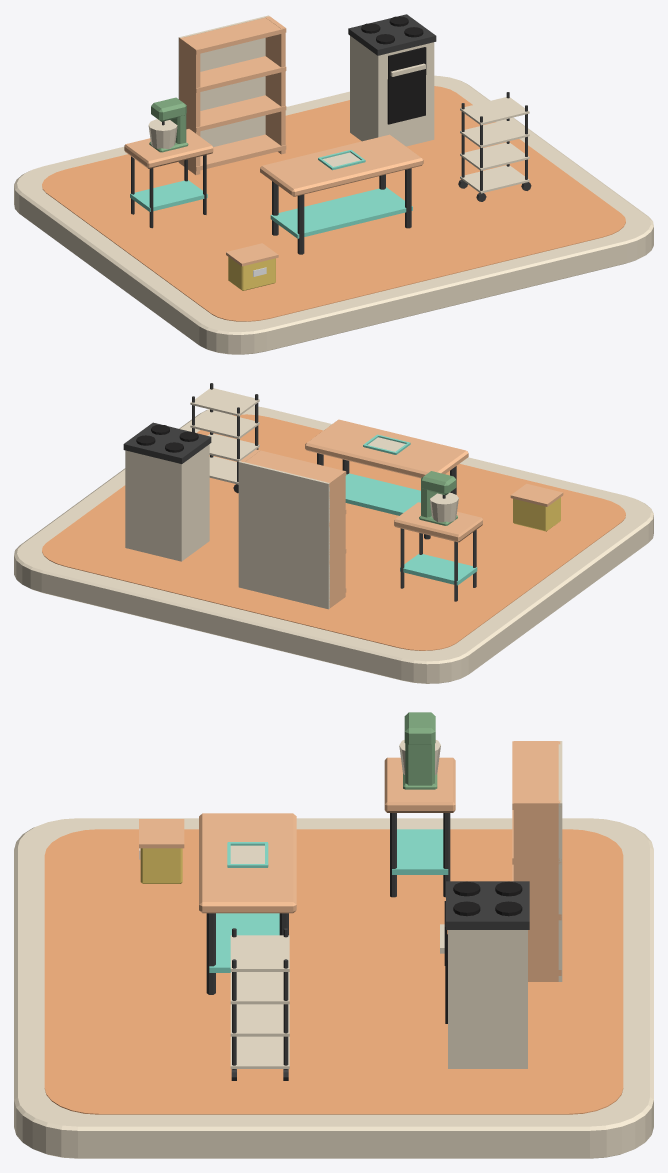
3 views of the same model, one above another, from view 1: azimuth 30°, elevation 25°; view 2: azimuth 150°, elevation 25°; view 3: azimuth 270°, elevation 25° (orthographic). The views are drawn at different scales.
Parts seen in each view (by area): view 1: COM-02 Floor Surface, COM-01 Rounded Base Direct, Stove, Worktop, Back, Lower shelf, Side.001, Side, Shelf.003, Shelf.002, Hob, Shelf.001 (+13 smaller); view 2: COM-02 Floor Surface, COM-01 Rounded Base Direct, Back, Stove, Worktop, Lower shelf, Side, Hob, Worktop.001, Shelf.003, Lower shelf.001, Box (+7 smaller); view 3: COM-02 Floor Surface, COM-01 Rounded Base Direct, Stove, Worktop, Side.001, Shelf.003, Hob, Worktop.001, Lower shelf.001, Rack shelf.003, Lower shelf, Rack shelf.002 (+9 smaller).
Part boxes in pixels (left/top/right/bottom): COM-02 Floor Surface: left=42, top=86, right=625, bottom=321; COM-01 Rounded Base Direct: left=14, top=75, right=653, bottom=354; Stove: left=350, top=36, right=434, bottom=146; Worktop: left=260, top=134, right=423, bottom=196; Back: left=178, top=15, right=269, bottom=162; Lower shelf: left=270, top=187, right=412, bottom=238; Side.001: left=265, top=16, right=285, bottom=154; Side: left=179, top=36, right=200, bottom=174; Shelf.003: left=179, top=17, right=286, bottom=54; Shelf.002: left=179, top=56, right=286, bottom=92; Hob: left=348, top=14, right=436, bottom=55; Shelf.001: left=186, top=95, right=286, bottom=131; COM-02 Floor Surface: left=42, top=414, right=625, bottom=650; COM-01 Rounded Base Direct: left=14, top=405, right=653, bottom=683; Back: left=238, top=461, right=329, bottom=609; Stove: left=125, top=444, right=209, bottom=561; Worktop: left=305, top=419, right=468, bottom=478; Lower shelf: left=345, top=473, right=420, bottom=515; Side: left=326, top=470, right=345, bottom=607; Hob: left=123, top=422, right=211, bottom=463; Worktop.001: left=394, top=502, right=482, bottom=542; Shelf.003: left=245, top=449, right=346, bottom=487; Lower shelf.001: left=400, top=554, right=477, bottom=585; Box: left=513, top=497, right=560, bottom=531; COM-02 Floor Surface: left=44, top=829, right=623, bottom=1114; COM-01 Rounded Base Direct: left=14, top=818, right=653, bottom=1158; Stove: left=448, top=930, right=527, bottom=1068; Worktop: left=199, top=813, right=296, bottom=913; Side.001: left=513, top=800, right=560, bottom=981; Shelf.003: left=512, top=741, right=560, bottom=809; Hob: left=446, top=881, right=529, bottom=929; Worktop.001: left=384, top=757, right=455, bottom=812; Lower shelf.001: left=392, top=829, right=448, bottom=874; Rack shelf.003: left=230, top=935, right=289, bottom=971; Lower shelf: left=209, top=913, right=279, bottom=972; Rack shelf.002: left=230, top=972, right=289, bottom=1004.
Size of the model in its own units: 6 by 1.9 by 5.2.
Materials: 1 (1 with a texture image).
